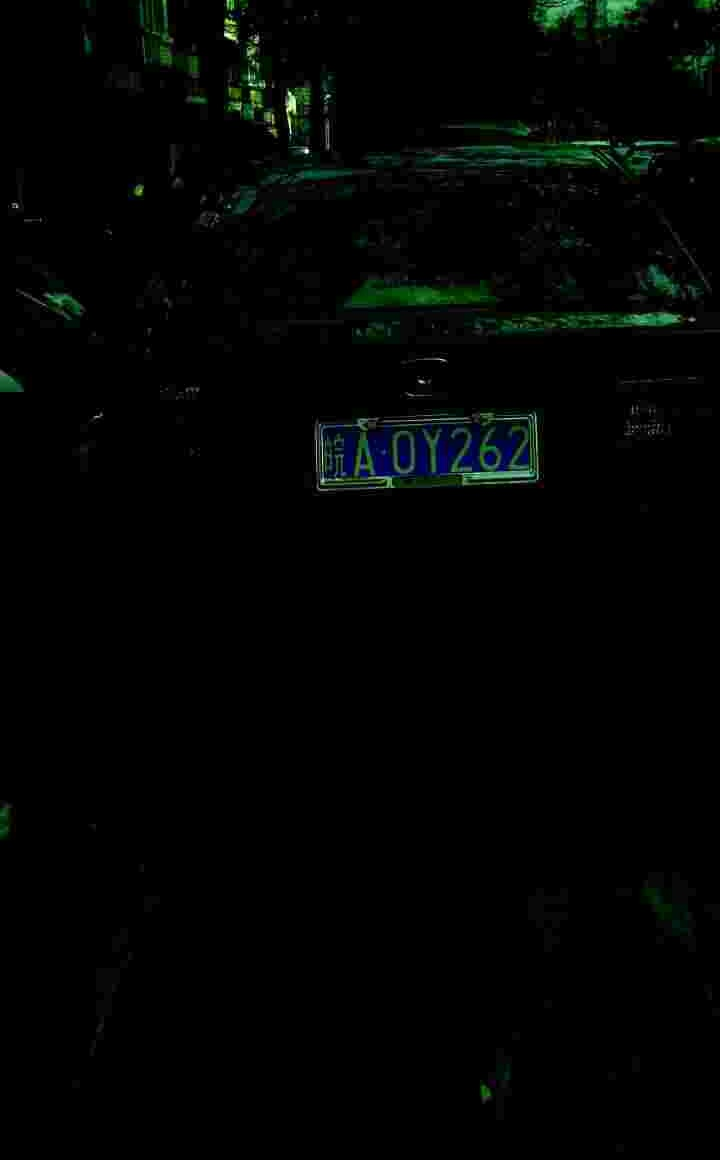license_plate: (309, 418, 542, 485)
